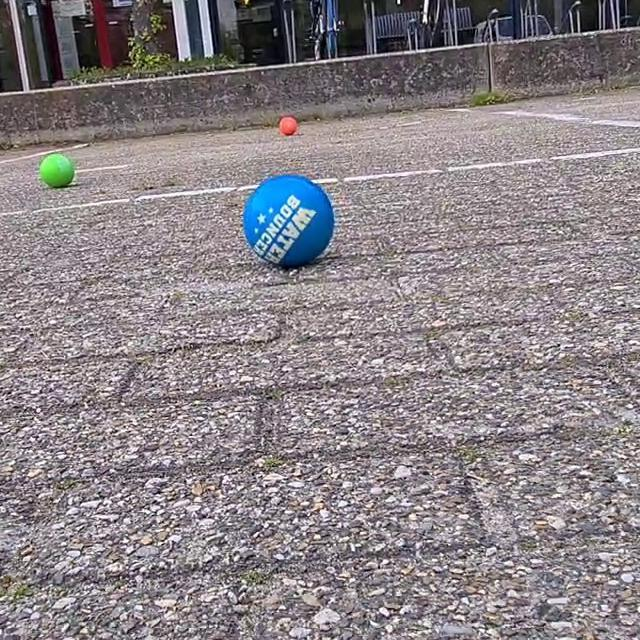ball: (38, 149, 76, 197), (275, 114, 300, 138)
